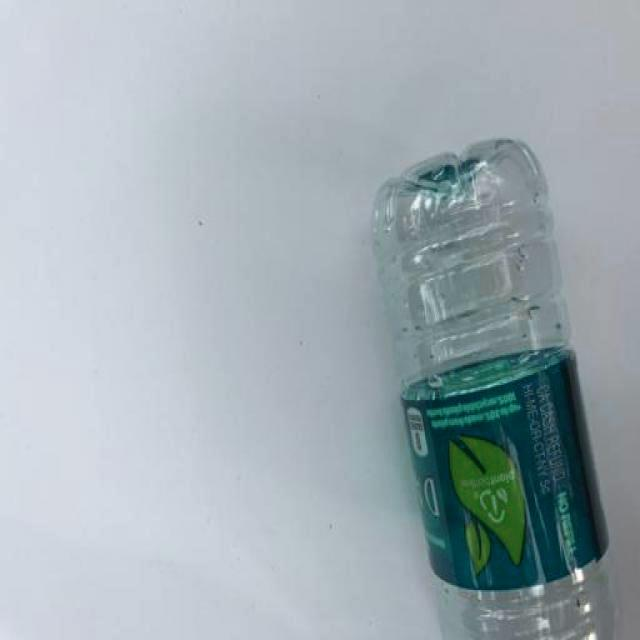bottle: (369, 136, 622, 640)
